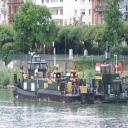tugboat: (13, 52, 105, 109)
